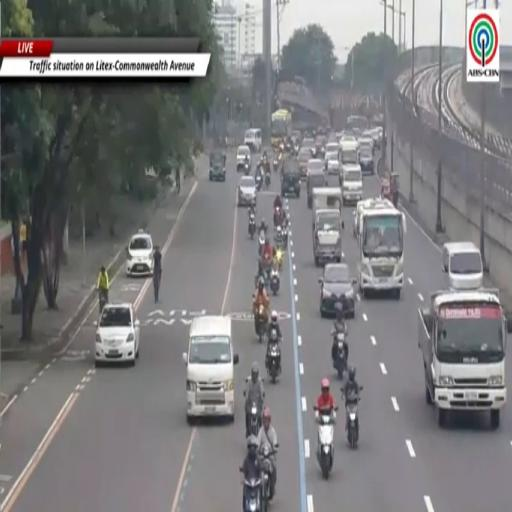bus: (271, 109, 291, 150), (346, 116, 369, 133)
car: (95, 303, 139, 365), (319, 263, 356, 318), (126, 230, 153, 276), (281, 164, 300, 198), (237, 176, 256, 205), (209, 152, 226, 181), (245, 128, 262, 152), (359, 147, 374, 174), (298, 148, 311, 179), (236, 146, 251, 171), (325, 152, 339, 175), (301, 137, 315, 157), (307, 158, 323, 174), (315, 135, 326, 157), (358, 137, 374, 152), (326, 140, 339, 152)
motorcycle: (314, 406, 333, 478), (261, 444, 278, 511), (346, 396, 360, 449), (244, 478, 266, 511), (332, 332, 347, 379), (266, 343, 281, 383), (249, 403, 261, 437), (257, 304, 266, 344), (270, 266, 280, 296), (274, 227, 284, 249), (274, 249, 283, 270), (249, 214, 256, 239), (258, 230, 265, 255), (274, 206, 282, 227), (99, 290, 106, 313), (255, 172, 262, 190), (285, 140, 293, 154), (282, 228, 287, 248), (273, 156, 279, 171), (265, 171, 270, 188), (244, 164, 250, 175), (294, 143, 299, 155)
truck: (418, 290, 511, 429), (357, 199, 406, 299), (312, 187, 344, 265), (313, 208, 344, 266), (312, 187, 342, 229), (271, 109, 291, 151), (339, 139, 359, 165)
